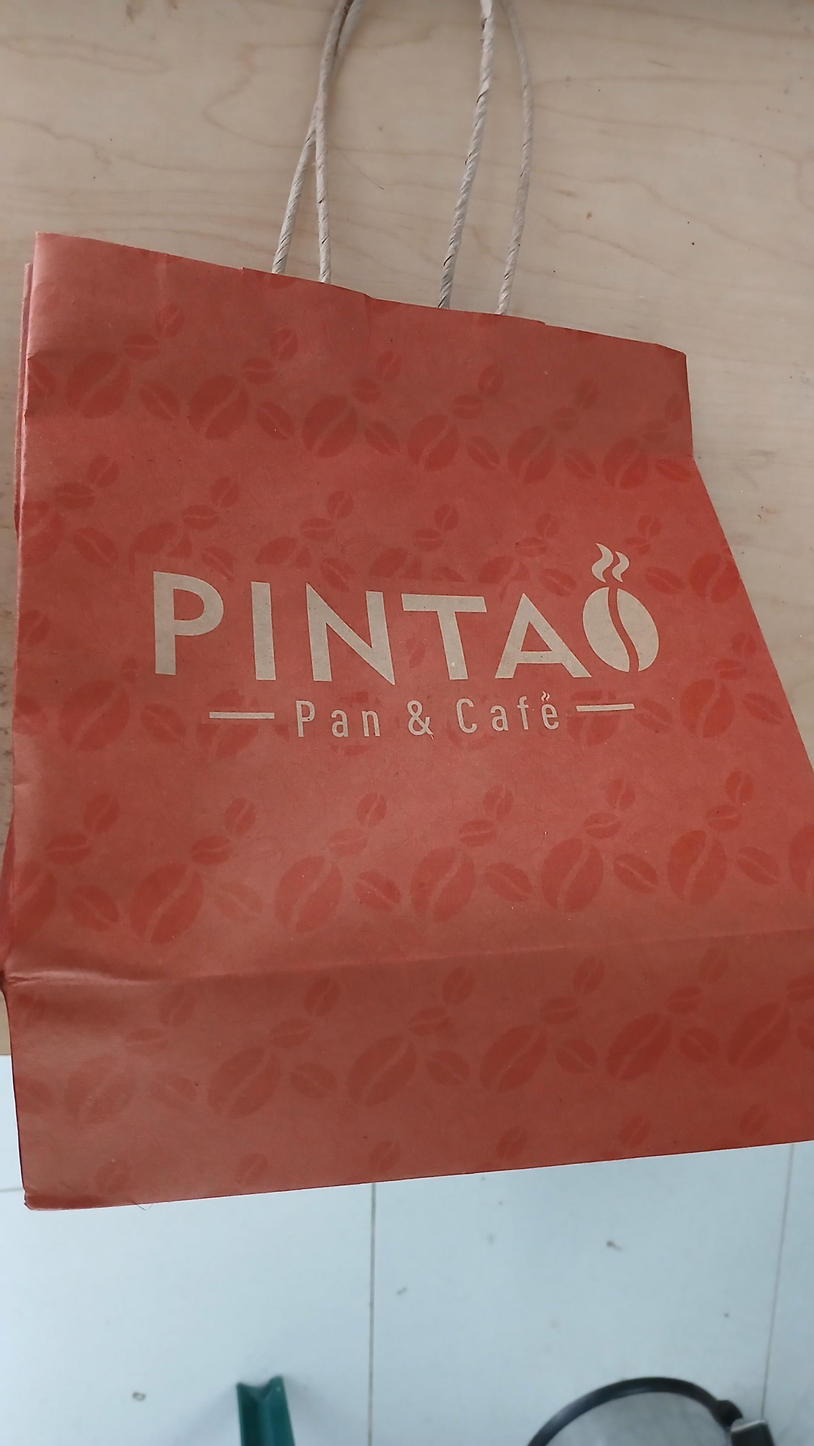Carton: (2, 238, 809, 1210)
